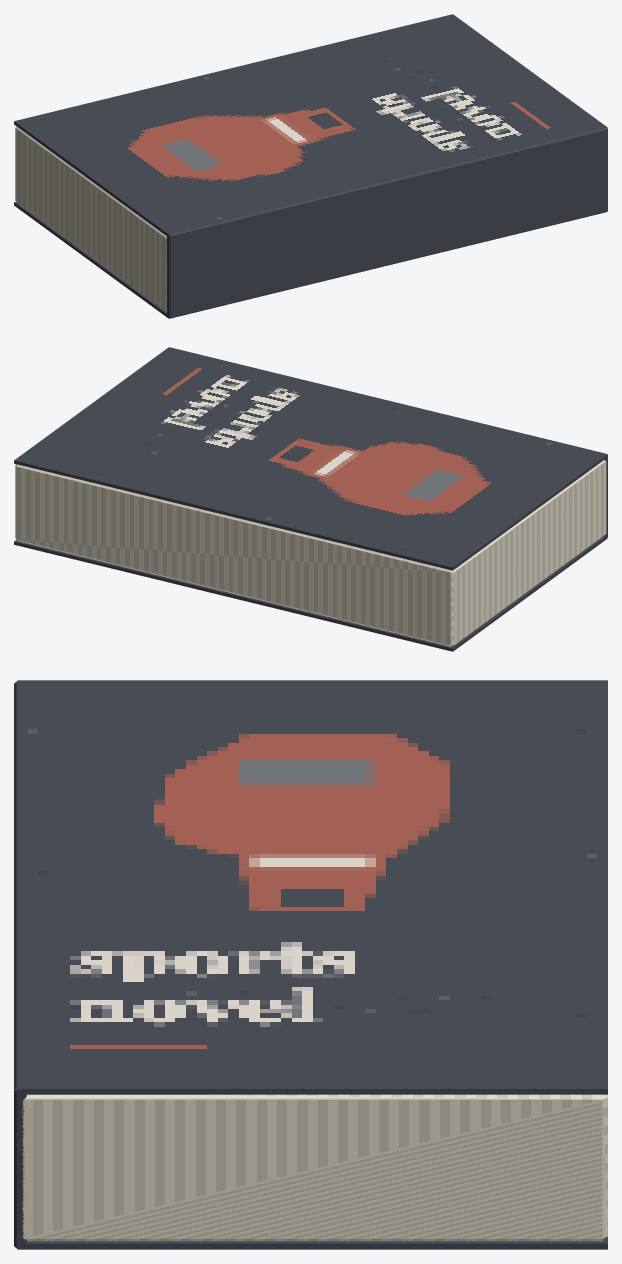
The model's file is novel_sports.glb.
3 views of the same model, one above another, from view 1: azimuth 30°, elevation 25°; view 2: azimuth 150°, elevation 25°; view 3: azimuth 270°, elevation 25° (orthographic). The views are drawn at different scales.
Parts seen in each view (by area): view 1: block_front, block_spine, block_pages, block_back; view 2: block_front, block_pages, block_back, block_spine; view 3: block_front, block_pages, block_spine, block_back.
Boxes of the visible parts, <box> form: block_front: <box>14,14,607,237</box>; block_spine: <box>167,128,607,318</box>; block_pages: <box>15,126,167,311</box>; block_back: <box>14,202,607,318</box>; block_front: <box>14,347,607,570</box>; block_pages: <box>15,460,606,646</box>; block_back: <box>14,536,607,651</box>; block_spine: <box>168,347,607,536</box>; block_front: <box>17,680,607,1094</box>; block_pages: <box>22,1094,607,1241</box>; block_spine: <box>14,681,26,1248</box>; block_back: <box>17,1237,607,1249</box>.
Size of the model in its own units: 0.18 by 0.033 by 0.1106.
Materials: 1 (1 with a texture image).
